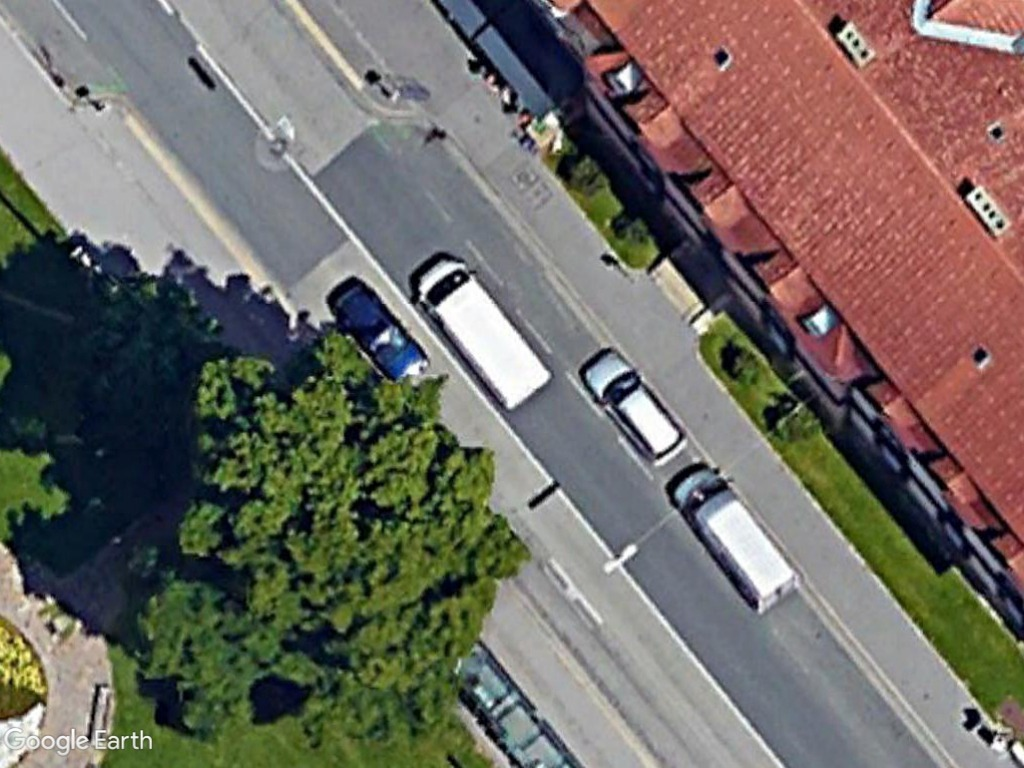car: (578, 346, 692, 473), (325, 280, 432, 388)
van: (410, 254, 553, 414), (660, 461, 801, 611)
